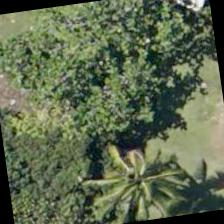Kelapa_Sawit: (76, 130, 178, 223)
